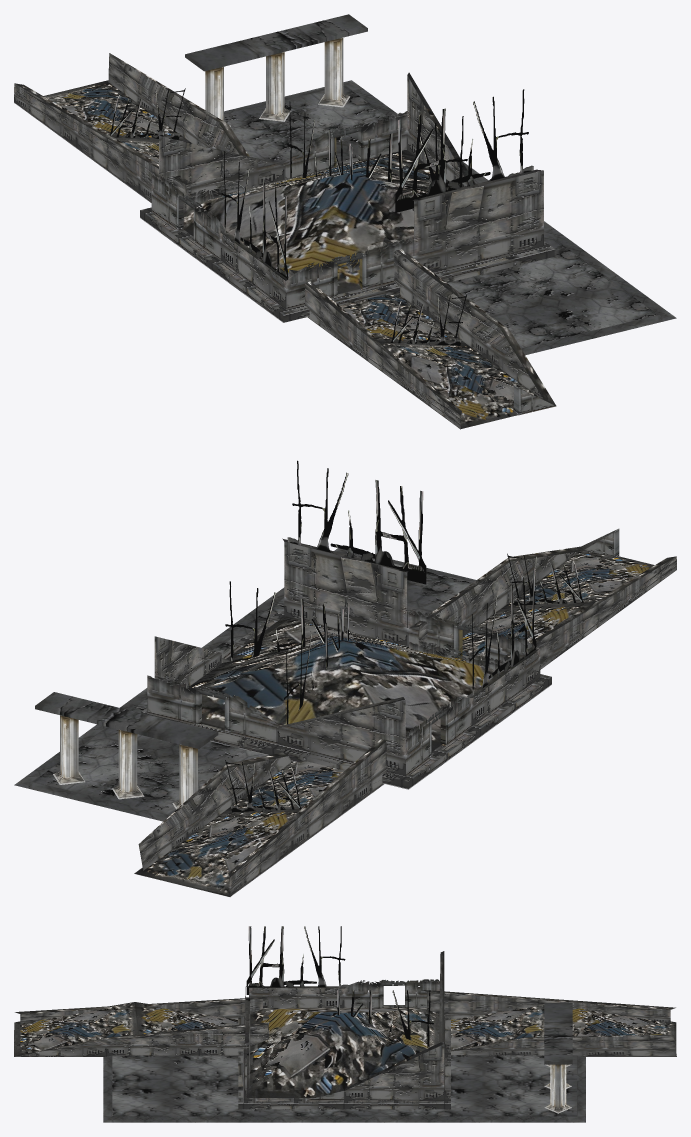
The model's file is s_gov1_dam_hdtex.glb.
3 views of the same model, one above another, from view 1: azimuth 30°, elevation 25°; view 2: azimuth 150°, elevation 25°; view 3: azimuth 270°, elevation 25° (orthographic). The views are drawn at different scales.
Visible parts, largest first — view 1: S_Gov1; view 2: S_Gov1; view 3: S_Gov1.
Boxes of the visible parts, x1=… form: S_Gov1: x1=14, y1=14, x2=676, y2=429; S_Gov1: x1=14, y1=460, x2=676, y2=896; S_Gov1: x1=14, y1=926, x2=676, y2=1122.
Size of the model in its own units: 22.96 by 12.38 by 58.68.
6 materials, 6 textured.
